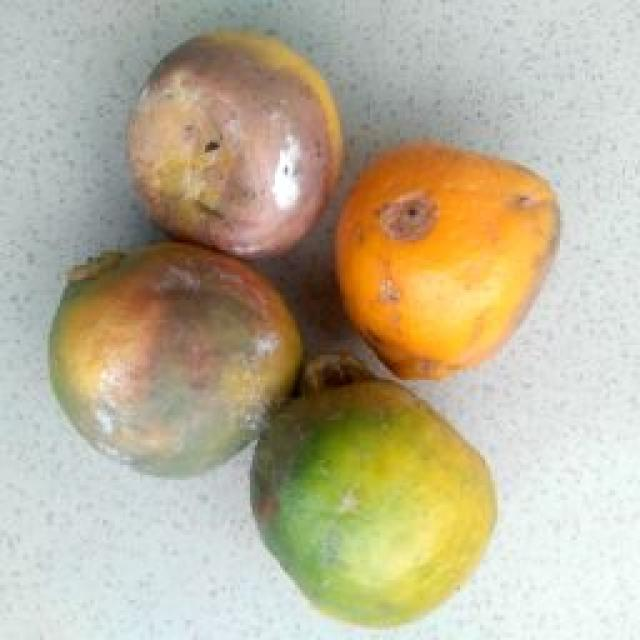Bad_Orange: (50, 242, 302, 476), (336, 142, 559, 376), (129, 31, 341, 258)
